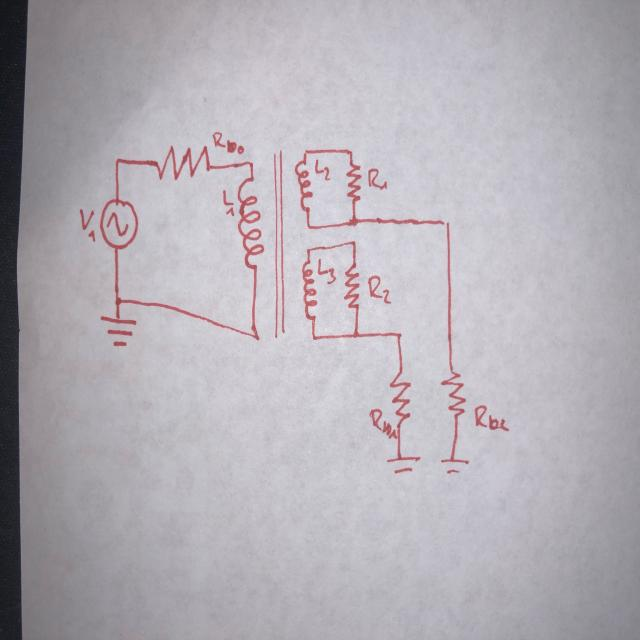ground: (99, 314, 137, 348), (384, 453, 422, 475), (438, 454, 470, 477)
junction: (112, 294, 124, 310), (392, 326, 403, 342), (348, 326, 359, 342), (348, 236, 359, 252), (440, 216, 451, 231), (348, 212, 359, 226), (113, 154, 123, 169), (346, 144, 356, 158), (309, 330, 318, 342), (301, 146, 310, 157), (304, 221, 313, 232), (253, 330, 261, 342), (304, 245, 312, 256), (246, 157, 254, 168)
resistor: (155, 143, 211, 184), (439, 366, 467, 420), (389, 365, 413, 425), (343, 260, 361, 316), (344, 157, 362, 206)
source: (98, 197, 139, 251)
text: (472, 403, 511, 434), (368, 406, 397, 440), (212, 128, 247, 156), (366, 272, 392, 307), (77, 206, 96, 244), (316, 256, 336, 286), (367, 166, 388, 192), (220, 188, 237, 218), (314, 156, 332, 184)
transformer: (235, 147, 318, 345)
